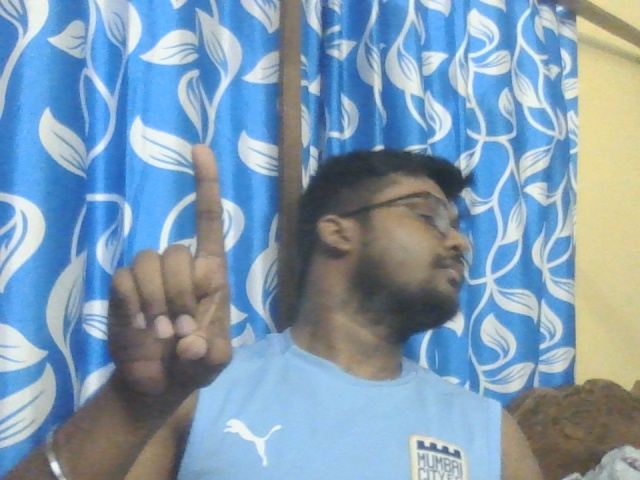D: (109, 144, 233, 391)
